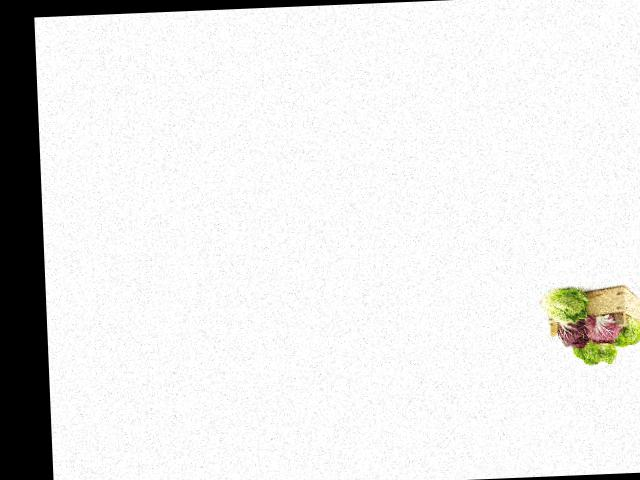lettuce: (572, 334, 617, 366)
